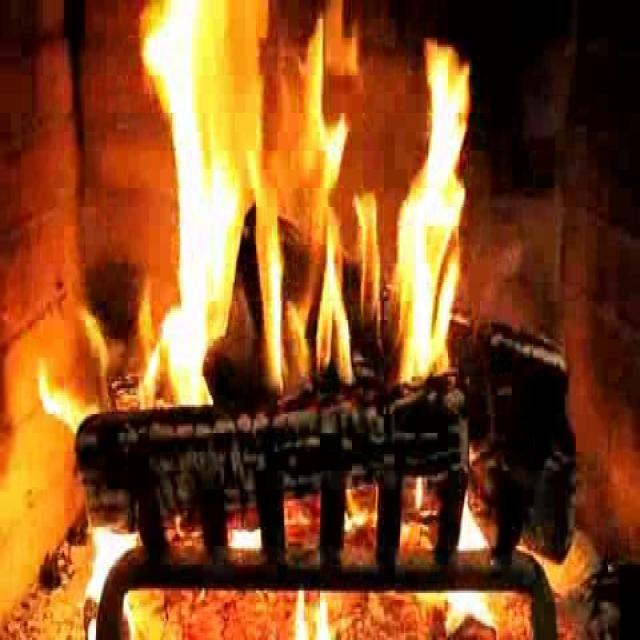fire: (132, 0, 488, 430)
